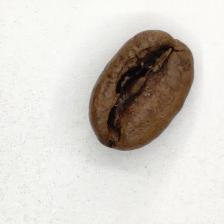NG: (111, 45, 173, 106)
